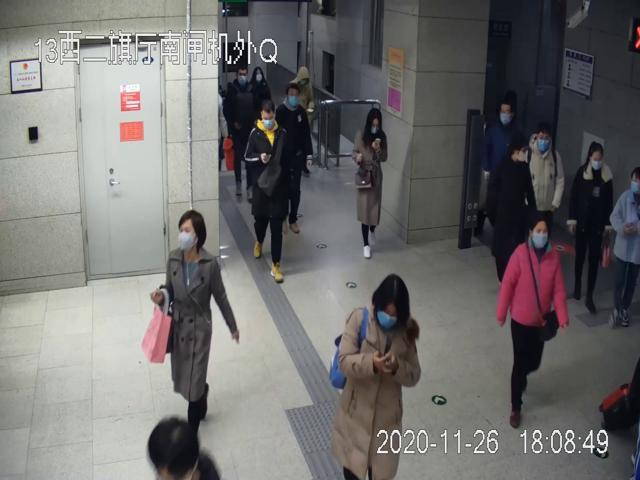person: (151, 209, 239, 430), (329, 272, 421, 480), (497, 216, 569, 429), (243, 100, 288, 281), (572, 140, 613, 315), (276, 84, 314, 237), (352, 108, 389, 260), (522, 123, 566, 234)
